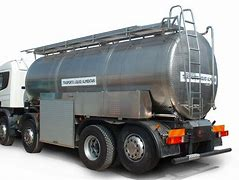oil truck: (0, 6, 232, 173)
